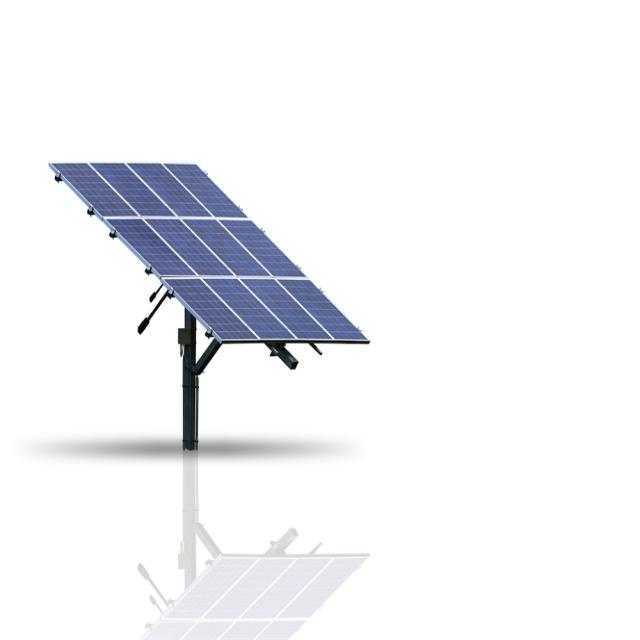clean-solar-panel: (50, 164, 369, 344)
